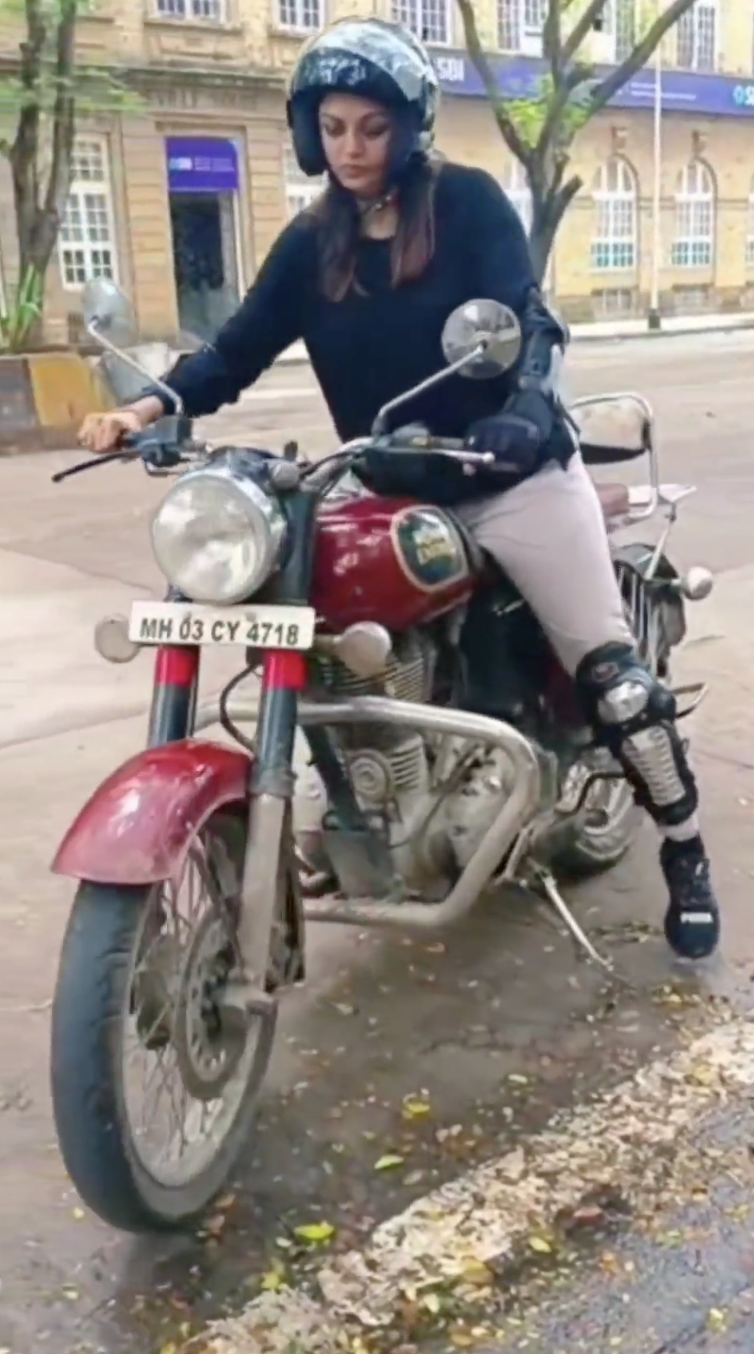motor: (31, 267, 719, 1221)
number: (126, 597, 314, 652)
with helmet: (280, 11, 438, 199)
